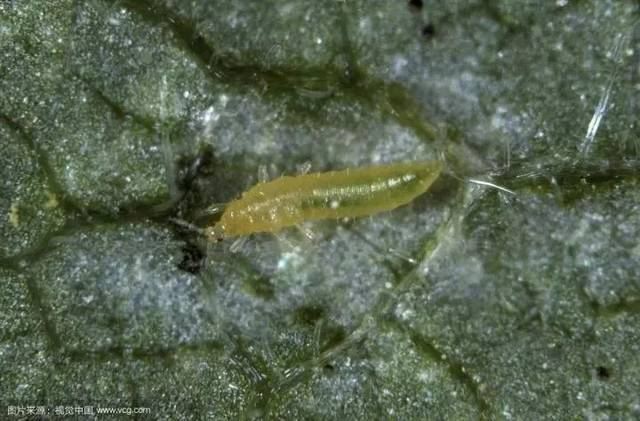thrips: (202, 159, 445, 253)
